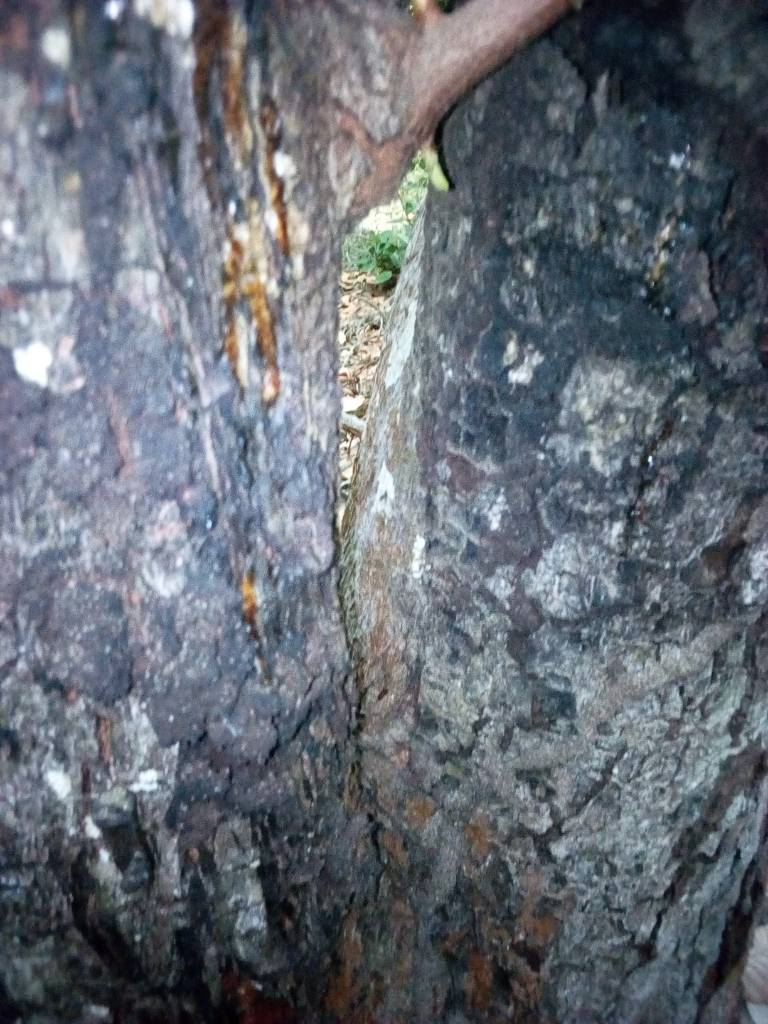Gommose: (111, 796, 577, 1021), (154, 57, 325, 402)
